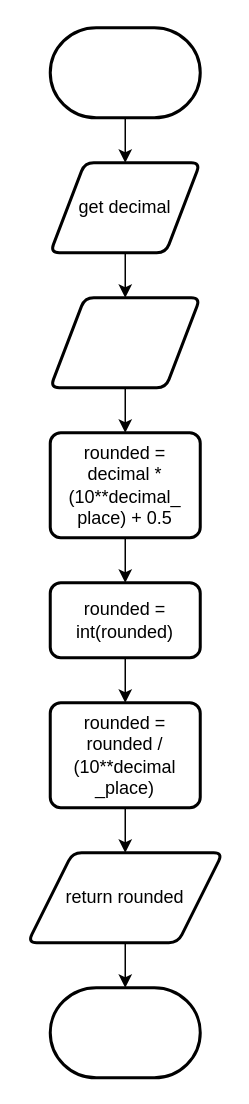
This 249x1104 diagram has some shape labels left out. Here are the shapes that lost their labels. From the top down, the centre of each, then its label:
At point 124,72: "Start".
At point 124,342: "get decimal_ place".
At point 124,1032: "Stop".
